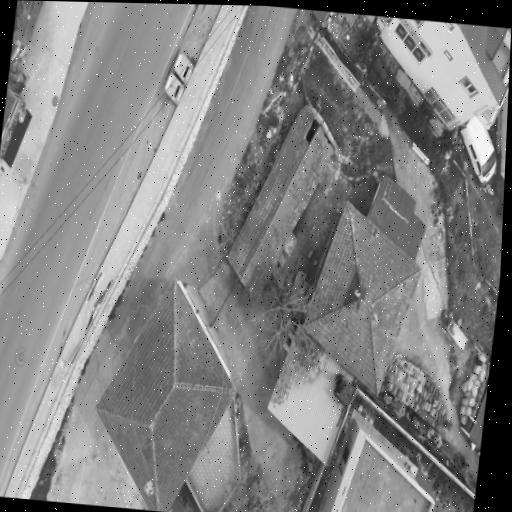car: (460, 117, 495, 183)
